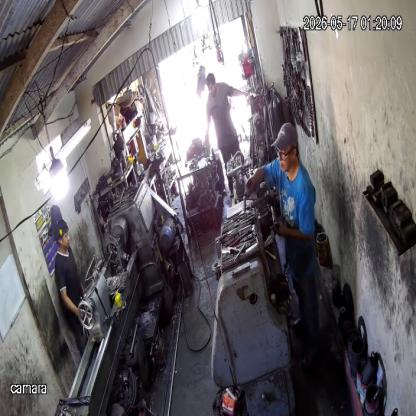lentes: (276, 146, 297, 160)
